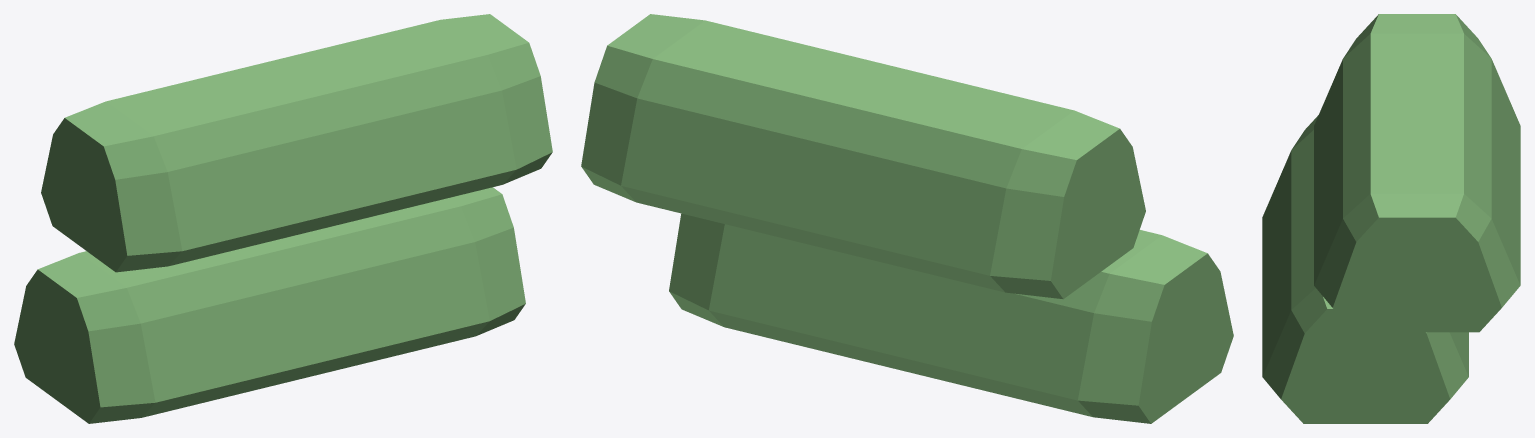
The model's file is tungsten_bar.glb.
3 views of the same model, side by side, from view 1: azimuth 30°, elevation 25°; view 2: azimuth 150°, elevation 25°; view 3: azimuth 270°, elevation 25° (orthographic). The views are drawn at different scales.
Visible parts, largest first — view 1: tungsten_bar_v0; view 2: tungsten_bar_v0; view 3: tungsten_bar_v0.
Boxes of the visible parts, bbox=[...] form: tungsten_bar_v0: bbox=[14, 14, 552, 423]; tungsten_bar_v0: bbox=[581, 14, 1233, 423]; tungsten_bar_v0: bbox=[1262, 14, 1520, 423].
Size of the model in its own units: 0.315 by 0.15 by 0.15.
